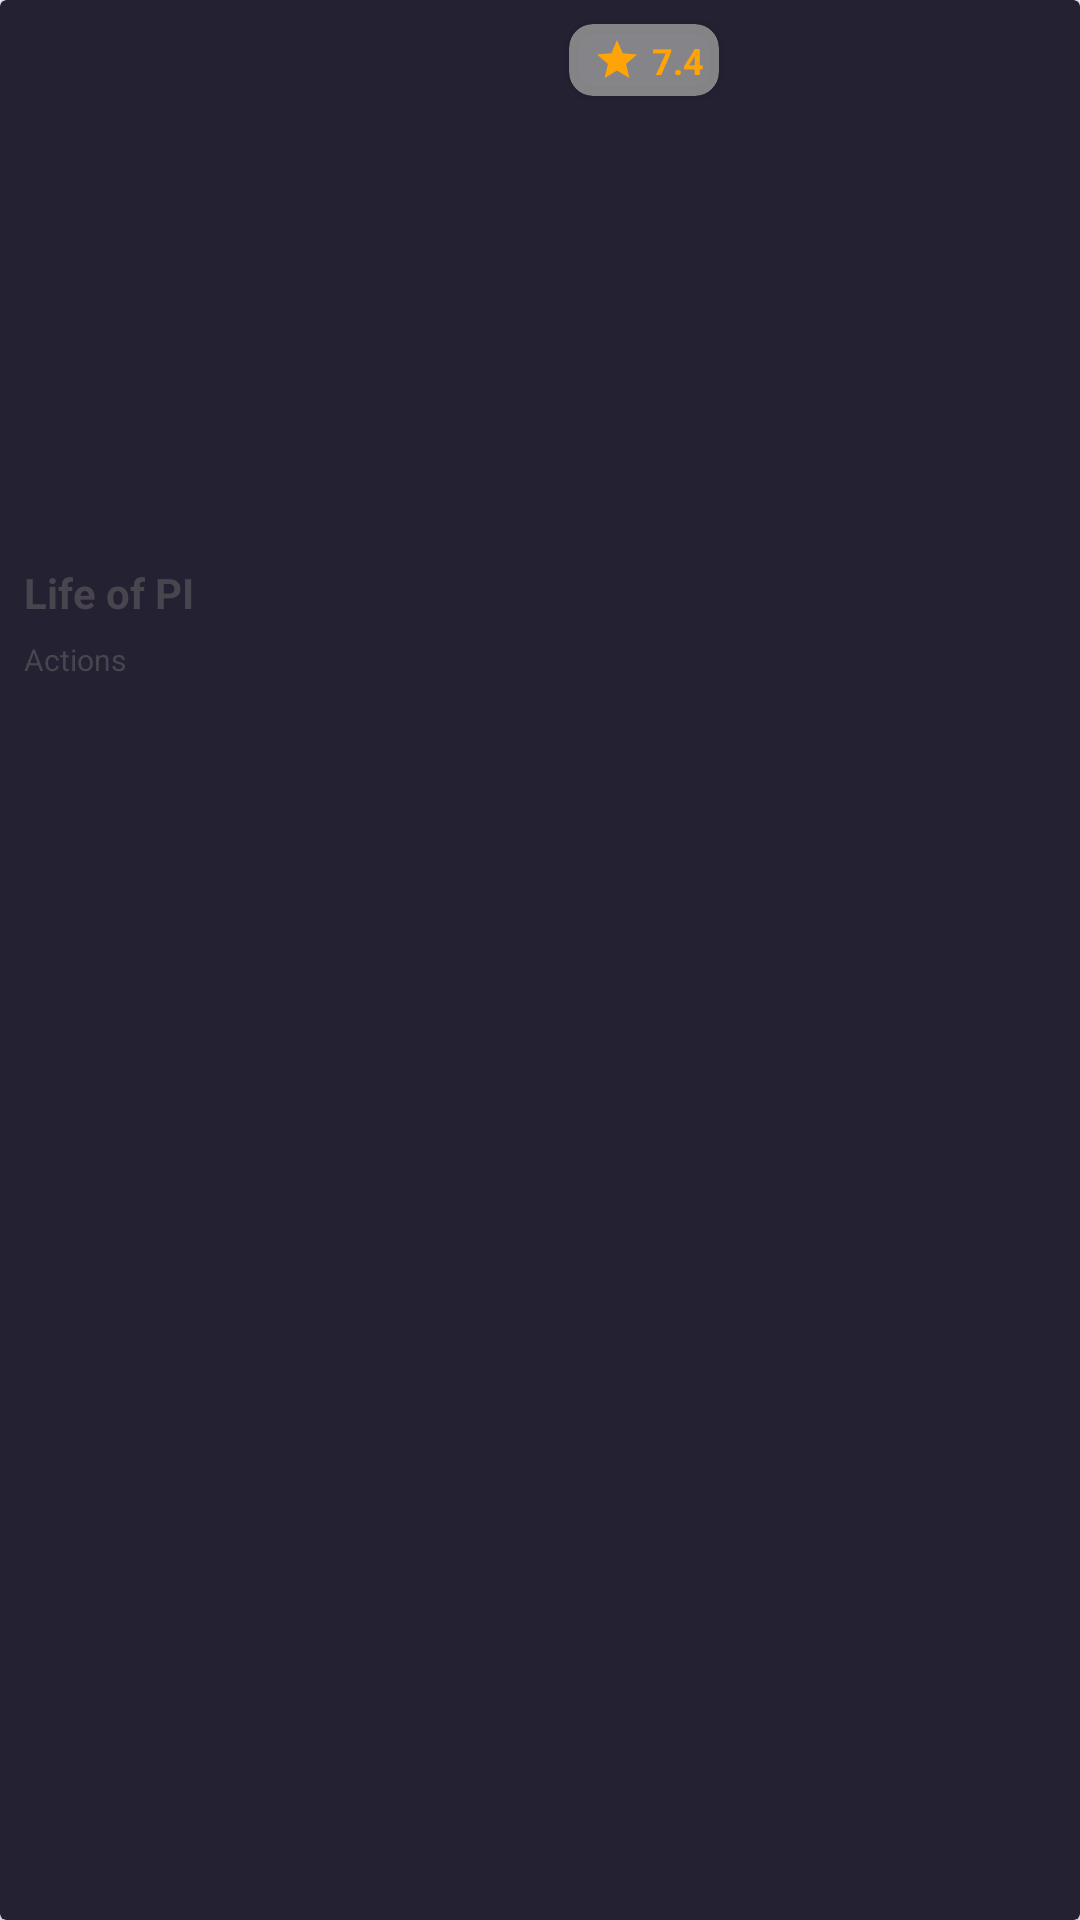

Locate icon controls on the screen. Image size 1080px x 1920px, boxes as (x1, y1, x2, y2).
star: (597, 41, 637, 78)
